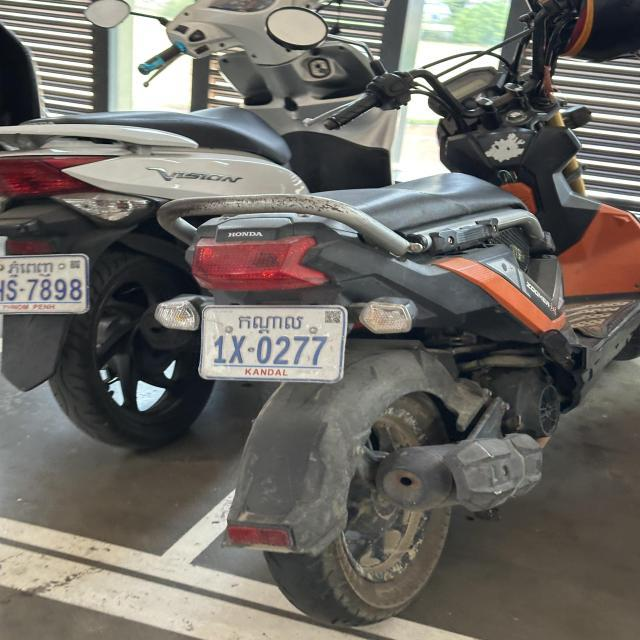Kandal: (237, 312, 305, 334)
